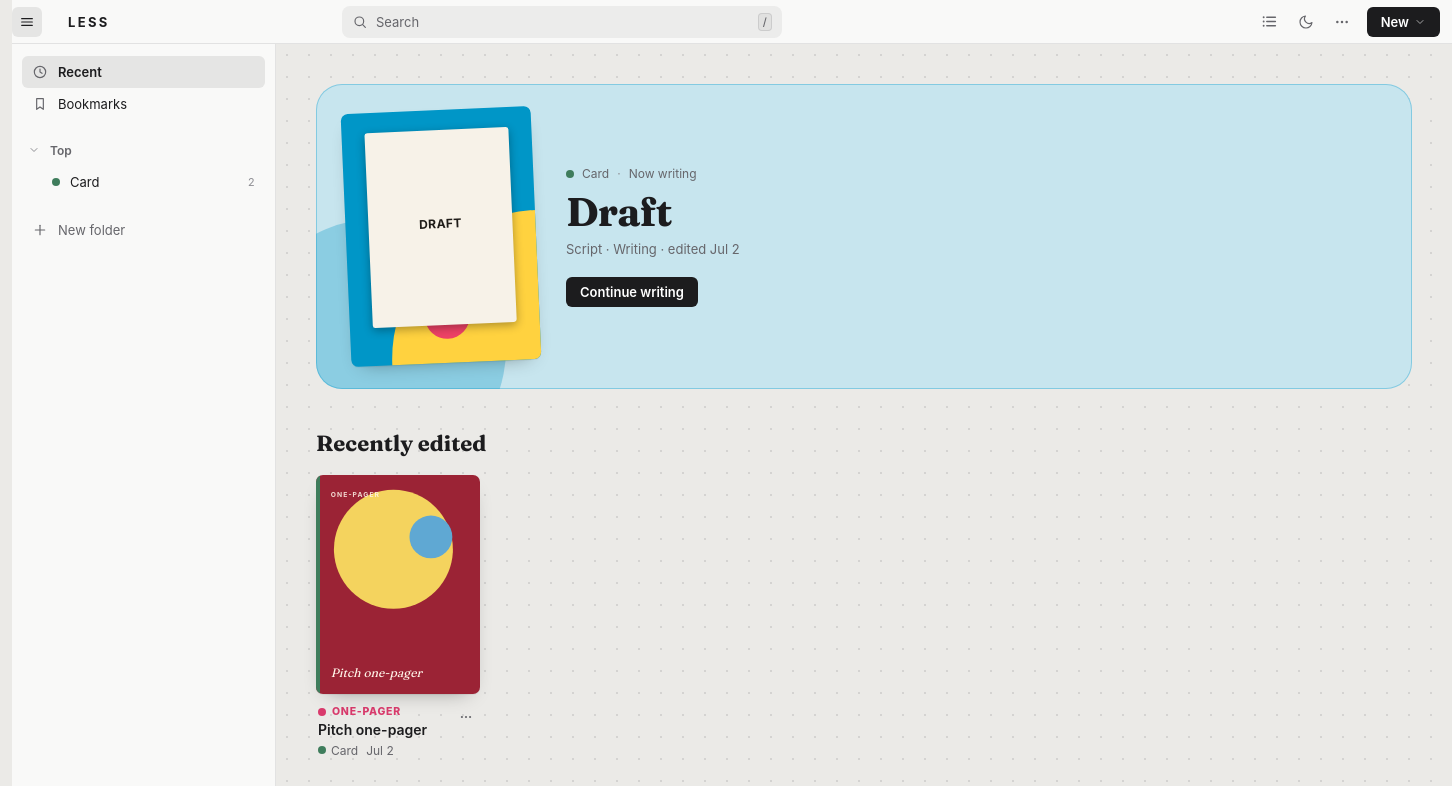
ProjectsHome desk › shows a stage's projects as fanned hands of covers, with what is in them
Click the button with class "lib-stage-name" at [128, 150], box [46,138,211,162]
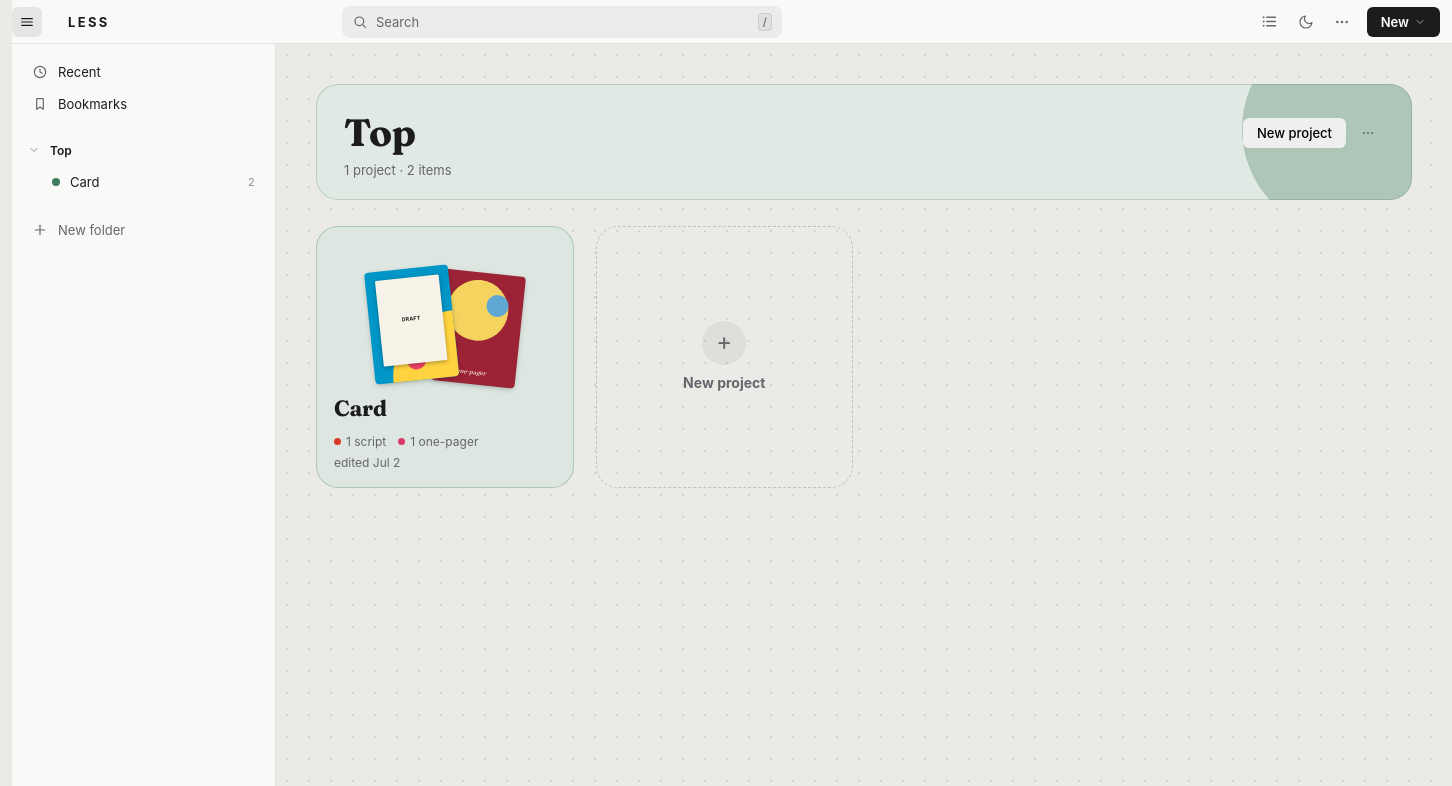
Check: the number of elements with class "dk-fan-card" is 2, box [364,264,459,384]; [430,268,526,388]
Check: the button with class "dk-project" shows "1 script", box [316,226,574,488]
Check: the button with class "dk-project" shows "1 one-pager", box [316,226,574,488]
